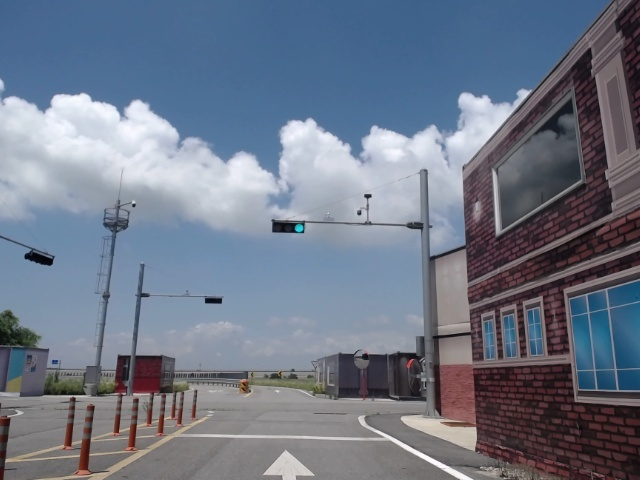green_3: (272, 221, 305, 233)
